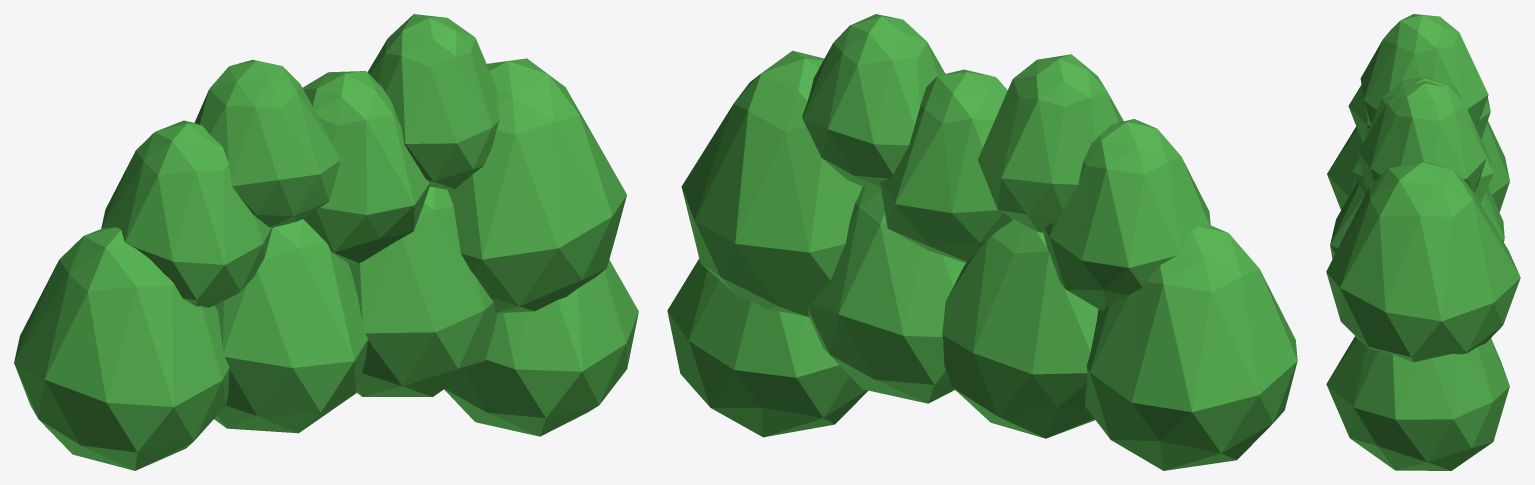
Rendered from muda.fbx.
The picture shows the model from 3 angles, left to right: view 1: azimuth 30°, elevation 25°; view 2: azimuth 150°, elevation 25°; view 3: azimuth 270°, elevation 25°; orthographic projection. The views are drawn at different scales.
Parts seen in each view (by area): view 1: Icosphere.010; view 2: Icosphere.010; view 3: Icosphere.010.
Part boxes in pixels (x1,y1,x2,y2): Icosphere.010: [14, 14, 638, 470]; Icosphere.010: [667, 14, 1297, 470]; Icosphere.010: [1326, 14, 1520, 470].
Size of the model in its own units: 39.5 by 26.97 by 14.05.
